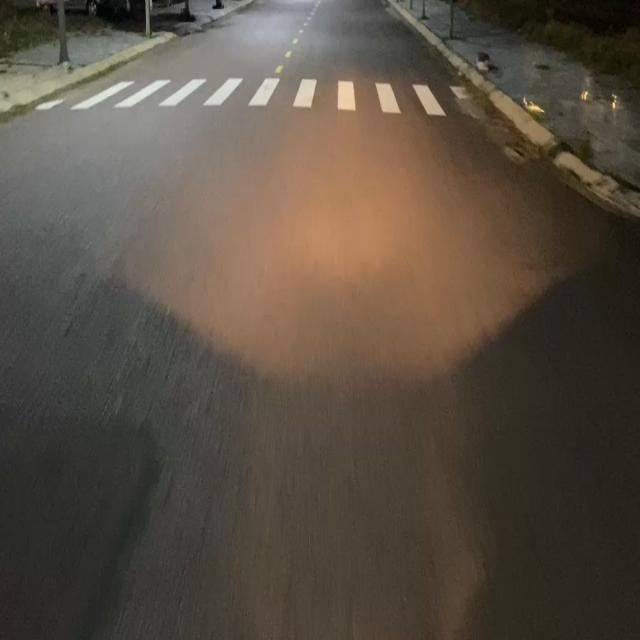walk-crossing: (24, 73, 493, 114)
